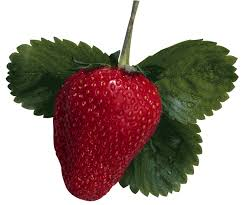strawberry: (52, 56, 163, 203)
